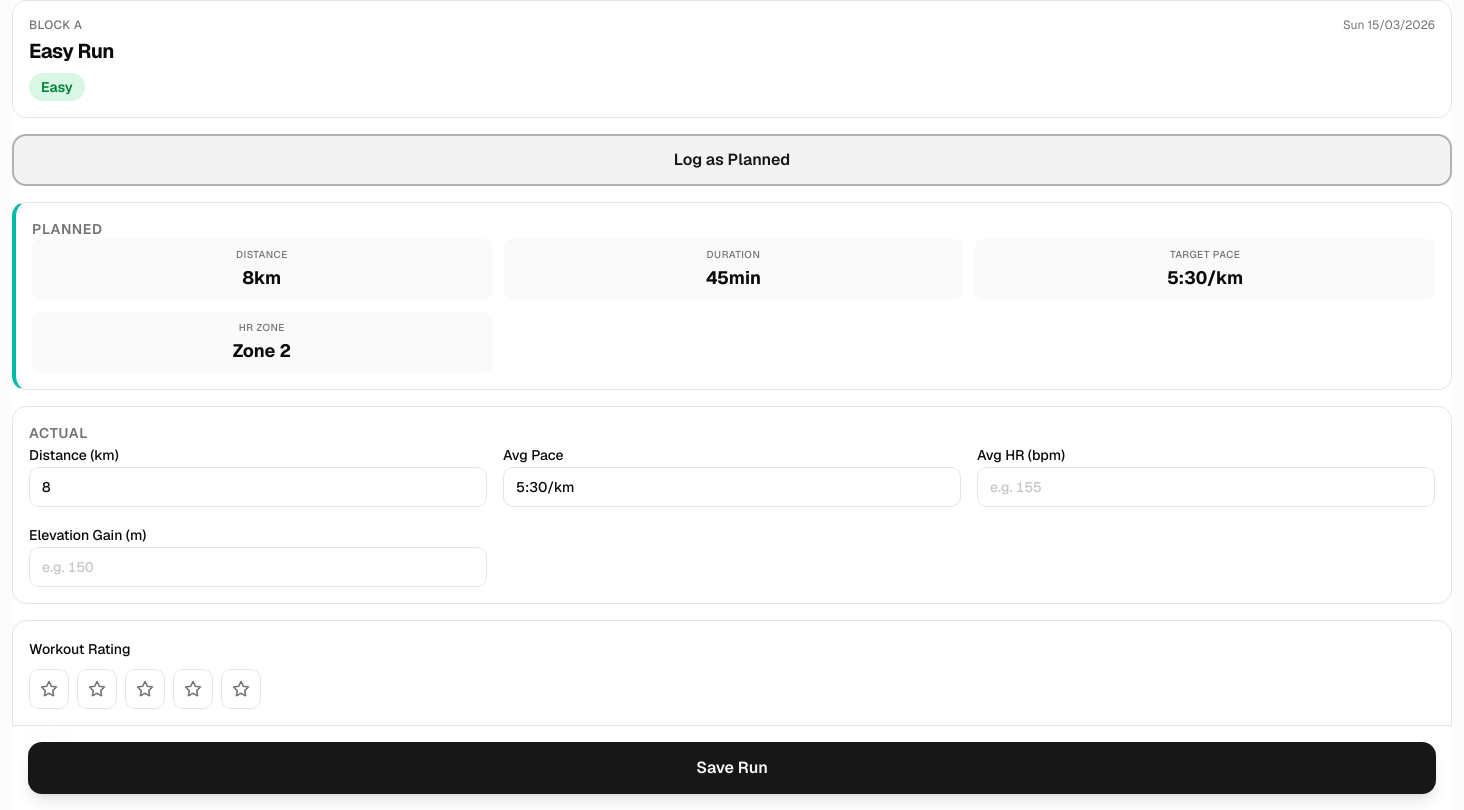
T135 — numeric input migration: running-logging-form › HR input rejects letters and decimals
Step 1. Type "1a5b5" into the field with test id "actual-avg-hr" → (1206,487), box 977,467 -> 1435,507
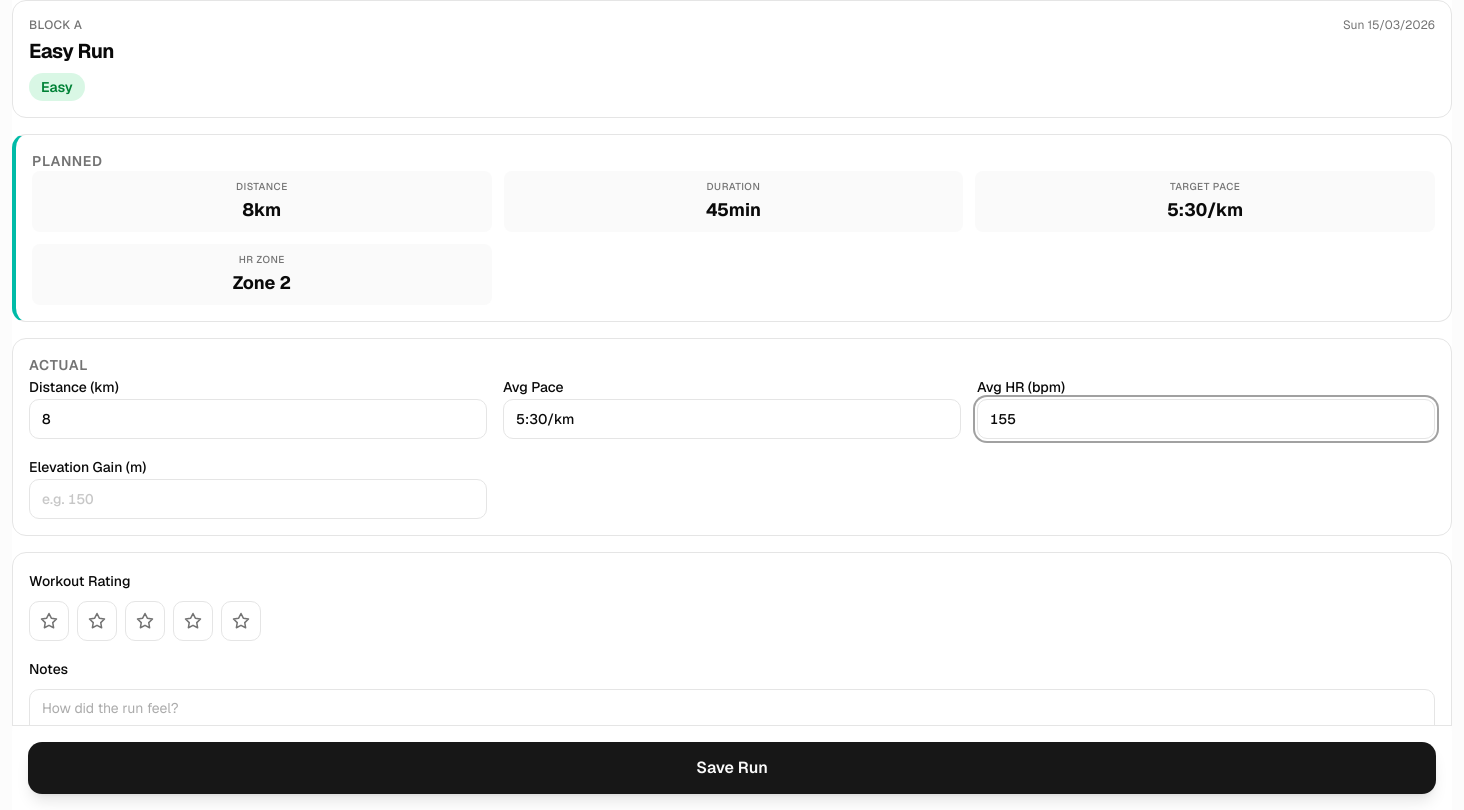
Now the field with test id "actual-avg-hr" holds "155", box 977,399 -> 1435,439
